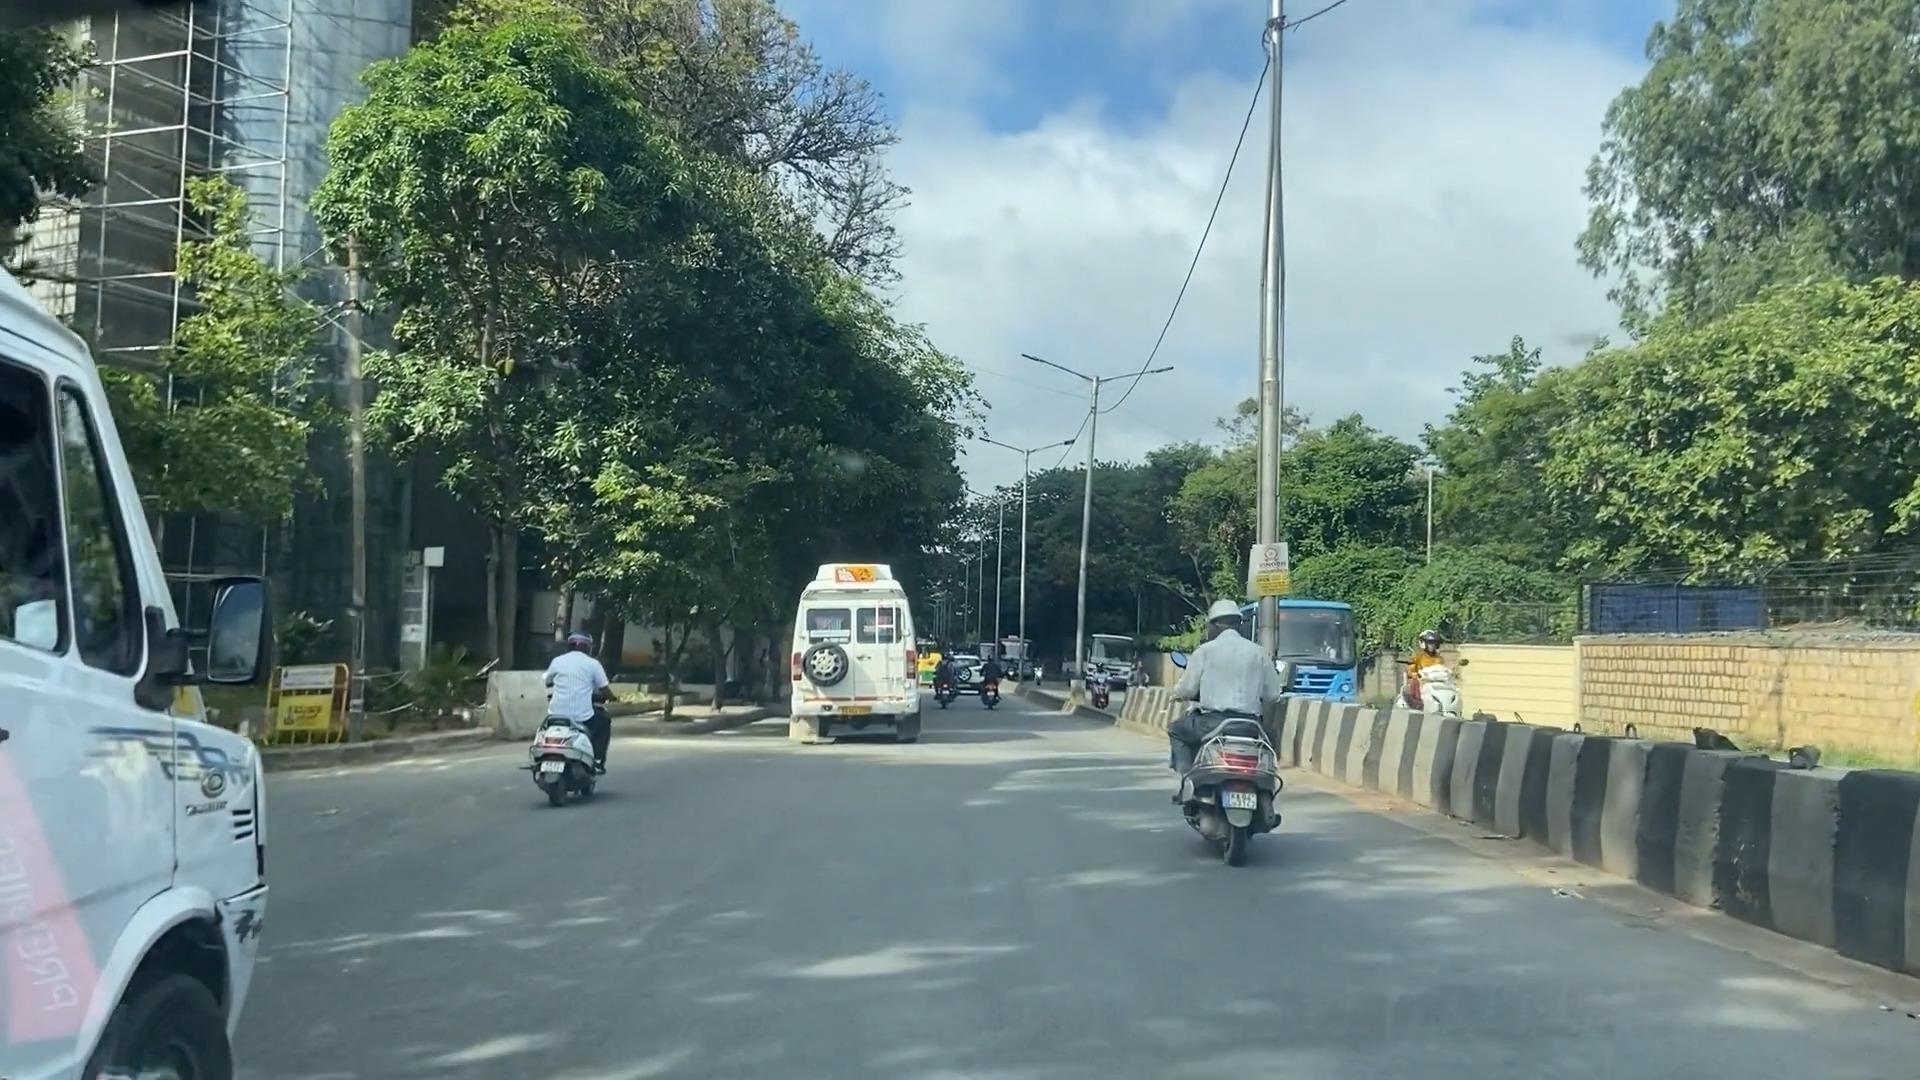HMV: (13, 303, 272, 1080), (786, 549, 931, 746)
LMV: (1185, 611, 1294, 851), (546, 633, 628, 827)
